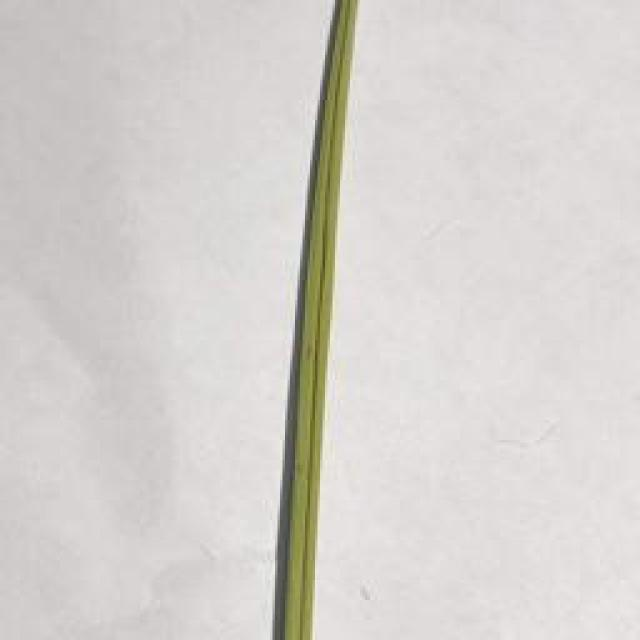Brown_Spot: (288, 457, 304, 487), (298, 342, 316, 363)
